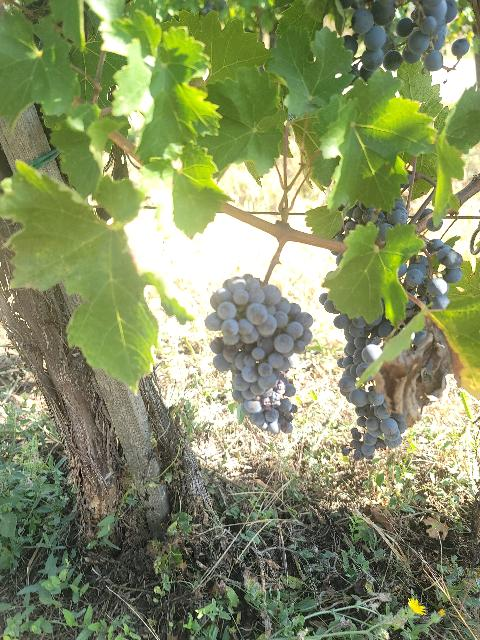grapes: (205, 275, 312, 435), (319, 292, 392, 395), (350, 389, 408, 460), (404, 239, 462, 310)
